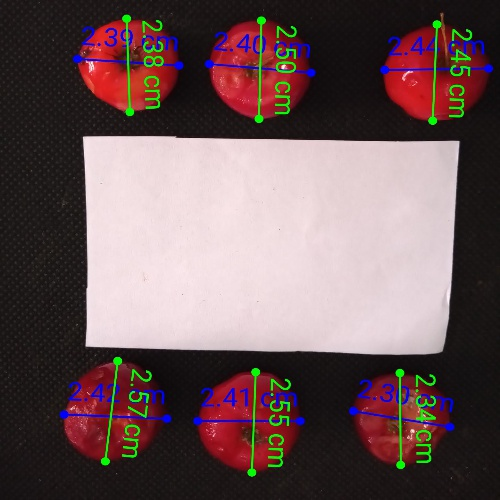acerola: (61, 361, 165, 460), (383, 26, 489, 122), (198, 373, 301, 471), (210, 21, 308, 118), (77, 19, 178, 112), (354, 375, 451, 464)
cartao: (87, 138, 445, 353)
